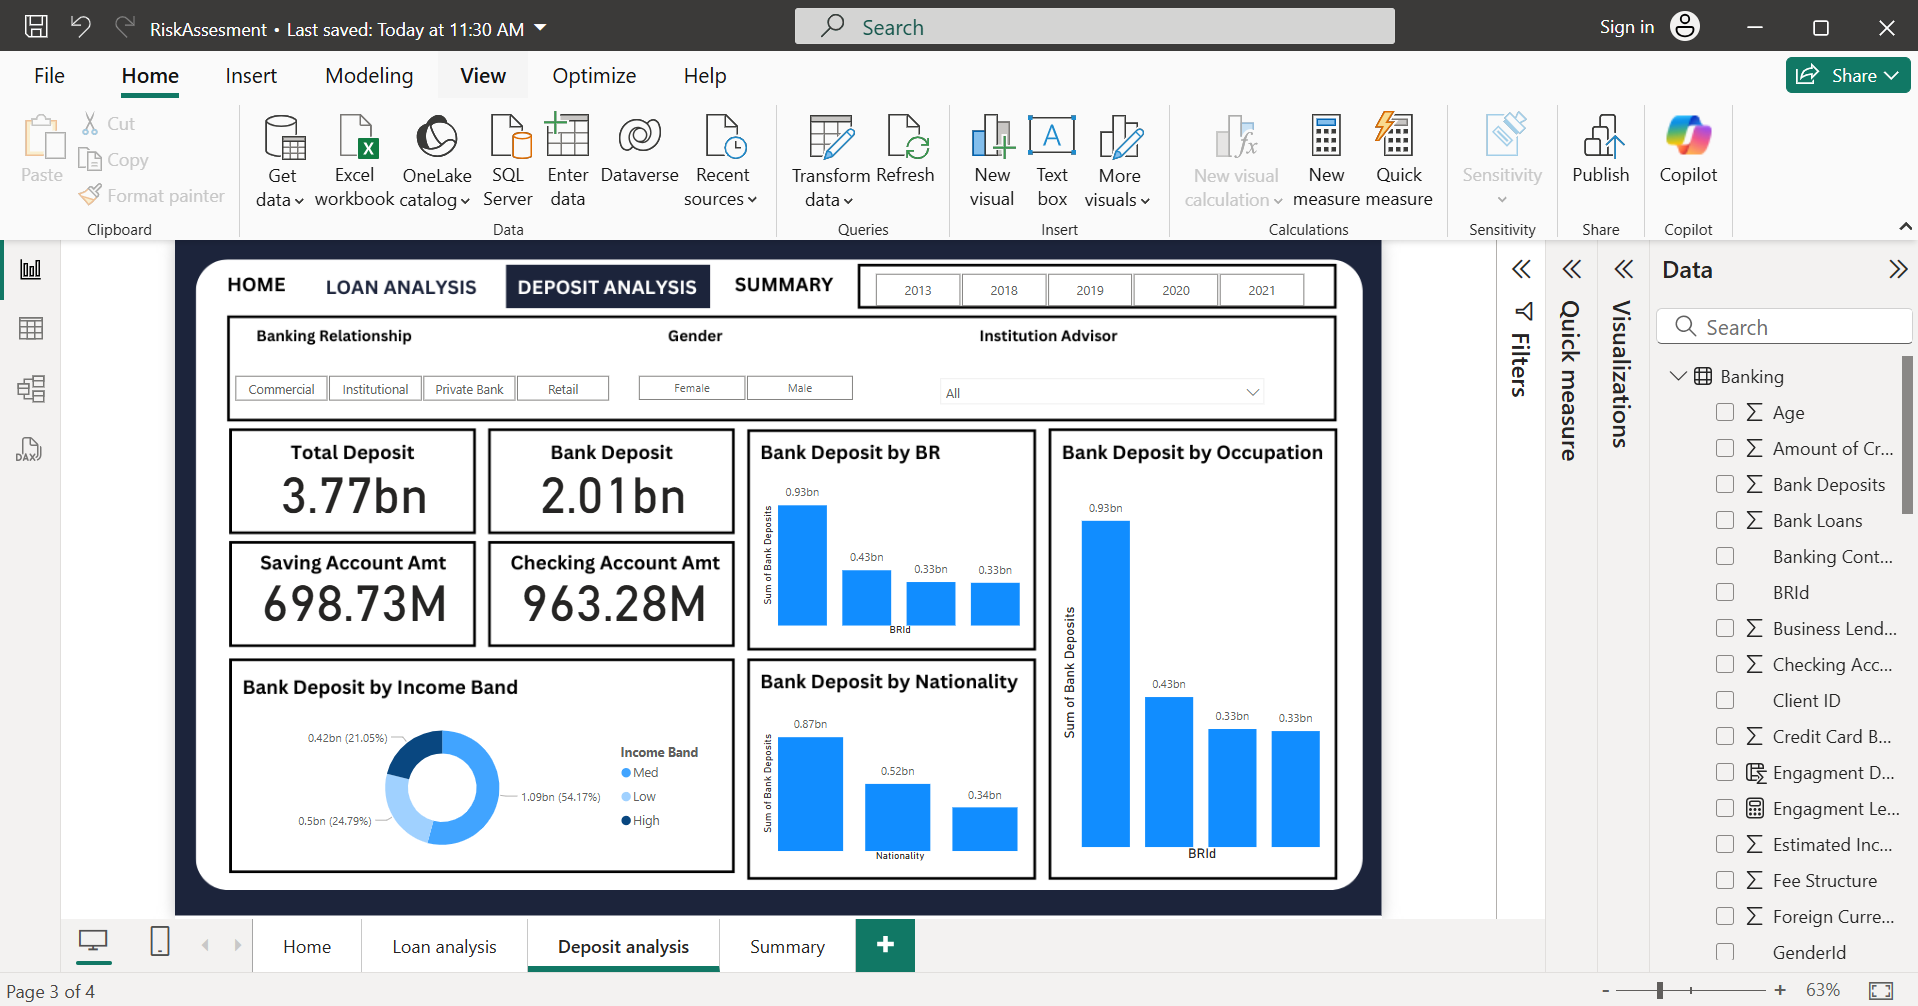

Layout of this report page (visuals, bound fields, positions):
{"tool":"powerbi","page":{"name":"Deposit analysis","canvas":[1280,720],"ordinal":2},"visuals":[{"type":"slicer","fields":{"Values":["Banking.Year of Joining"]},"box":[717.3,28.8,503.8,48.1],"z":0},{"type":"actionButton","box":[38.5,28.8,100,40.4],"z":1000},{"type":"actionButton","box":[576.9,28.8,140.4,40.4],"z":2000},{"type":"card","fields":{"Values":["Banking.Total Deposit"]},"box":[67.3,244.2,246.2,57.7],"z":3000},{"type":"card","fields":{"Values":["Sum(Banking.Bank Deposits)"]},"box":[353.8,244.2,223.1,57.7],"z":4000},{"type":"card","fields":{"Values":["Sum(Banking.Saving Accounts)"]},"box":[67.3,359.6,246.2,57.7],"z":5000},{"type":"card","fields":{"Values":["Sum(Banking.Checking Accounts)"]},"box":[342.3,359.6,246.2,57.7],"z":6000},{"type":"donutChart","fields":{"Category":["Banking.Income Band"],"Y":["Sum(Banking.Bank Deposits)"]},"box":[88.5,498.1,488.5,165.4],"z":7000},{"type":"clusteredColumnChart","fields":{"Category":["Banking.BRId"],"Y":["Sum(Banking.Bank Deposits)"]},"box":[617.3,244.2,286.5,178.8],"z":8000},{"type":"clusteredColumnChart","fields":{"Category":["Banking.Nationality"],"Y":["Sum(Banking.Bank Deposits)"]},"box":[617.3,490.4,286.5,173.1],"z":9000},{"type":"clusteredColumnChart","fields":{"Category":["Banking.BRId"],"Y":["Sum(Banking.Bank Deposits)"]},"box":[934.6,259.6,286.5,403.8],"z":10000},{"type":"slicer","fields":{"Values":["Banking.BRId"]},"box":[38.5,136.5,446.2,38.5],"z":11000},{"type":"slicer","fields":{"Values":["Banking.GenderId"]},"box":[465.4,136.5,276.9,38.5],"z":12000},{"type":"slicer","fields":{"Values":["Banking.IAId"]},"box":[801.9,136.5,363.5,38.5],"z":13000},{"type":"actionButton","box":[138.4,27,202,41.4],"z":14000}]}

Visuals, with their boxes on the page's 1280x720 design canvas (x1, y1, x2, y2). These are canvas units, not pixel positions in the 1918x1006 screenshot, which may show the page scaled, cropped or inside an application window:
slicer - Banking.Year of Joining: [x1=717, y1=29, x2=1221, y2=77]
actionButton: [x1=38, y1=29, x2=138, y2=69]
actionButton: [x1=577, y1=29, x2=717, y2=69]
card - Banking.Total Deposit: [x1=67, y1=244, x2=314, y2=302]
card - Sum(Banking.Bank Deposits): [x1=354, y1=244, x2=577, y2=302]
card - Sum(Banking.Saving Accounts): [x1=67, y1=360, x2=314, y2=417]
card - Sum(Banking.Checking Accounts): [x1=342, y1=360, x2=588, y2=417]
donutChart - Banking.Income Band x Sum(Banking.Bank Deposits): [x1=88, y1=498, x2=577, y2=664]
clusteredColumnChart - Banking.BRId x Sum(Banking.Bank Deposits): [x1=617, y1=244, x2=904, y2=423]
clusteredColumnChart - Banking.Nationality x Sum(Banking.Bank Deposits): [x1=617, y1=490, x2=904, y2=664]
clusteredColumnChart - Banking.BRId x Sum(Banking.Bank Deposits): [x1=935, y1=260, x2=1221, y2=663]
slicer - Banking.BRId: [x1=38, y1=136, x2=485, y2=175]
slicer - Banking.GenderId: [x1=465, y1=136, x2=742, y2=175]
slicer - Banking.IAId: [x1=802, y1=136, x2=1165, y2=175]
actionButton: [x1=138, y1=27, x2=340, y2=68]
